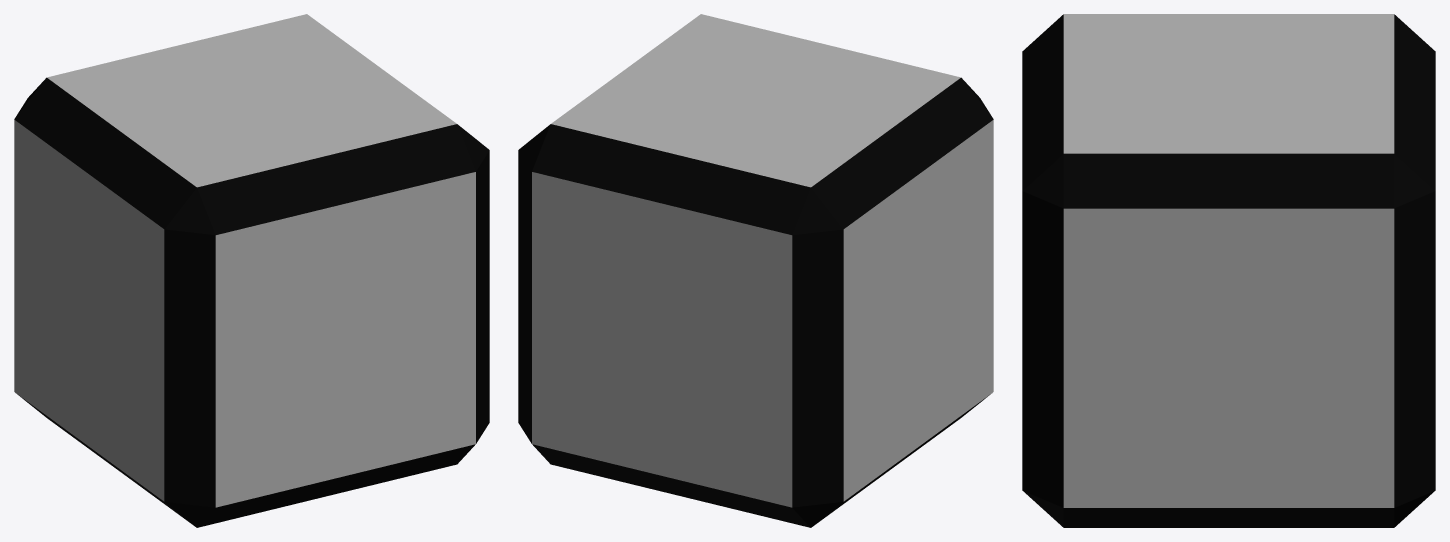
File: SubdividedTetrisBlock.fbx
3 renders of one model, left to right at view 1: azimuth 30°, elevation 25°; view 2: azimuth 150°, elevation 25°; view 3: azimuth 270°, elevation 25°, orthographic. The views are drawn at different scales.
Parts seen in each view (by area): view 1: Cube; view 2: Cube; view 3: Cube.
Boxes of the visible parts, box(x1,y1,x2,y2) form: Cube: box(14, 14, 489, 527); Cube: box(518, 14, 993, 527); Cube: box(1022, 14, 1435, 527).
Bounding box in the file's own units: 100 × 100 × 100.
